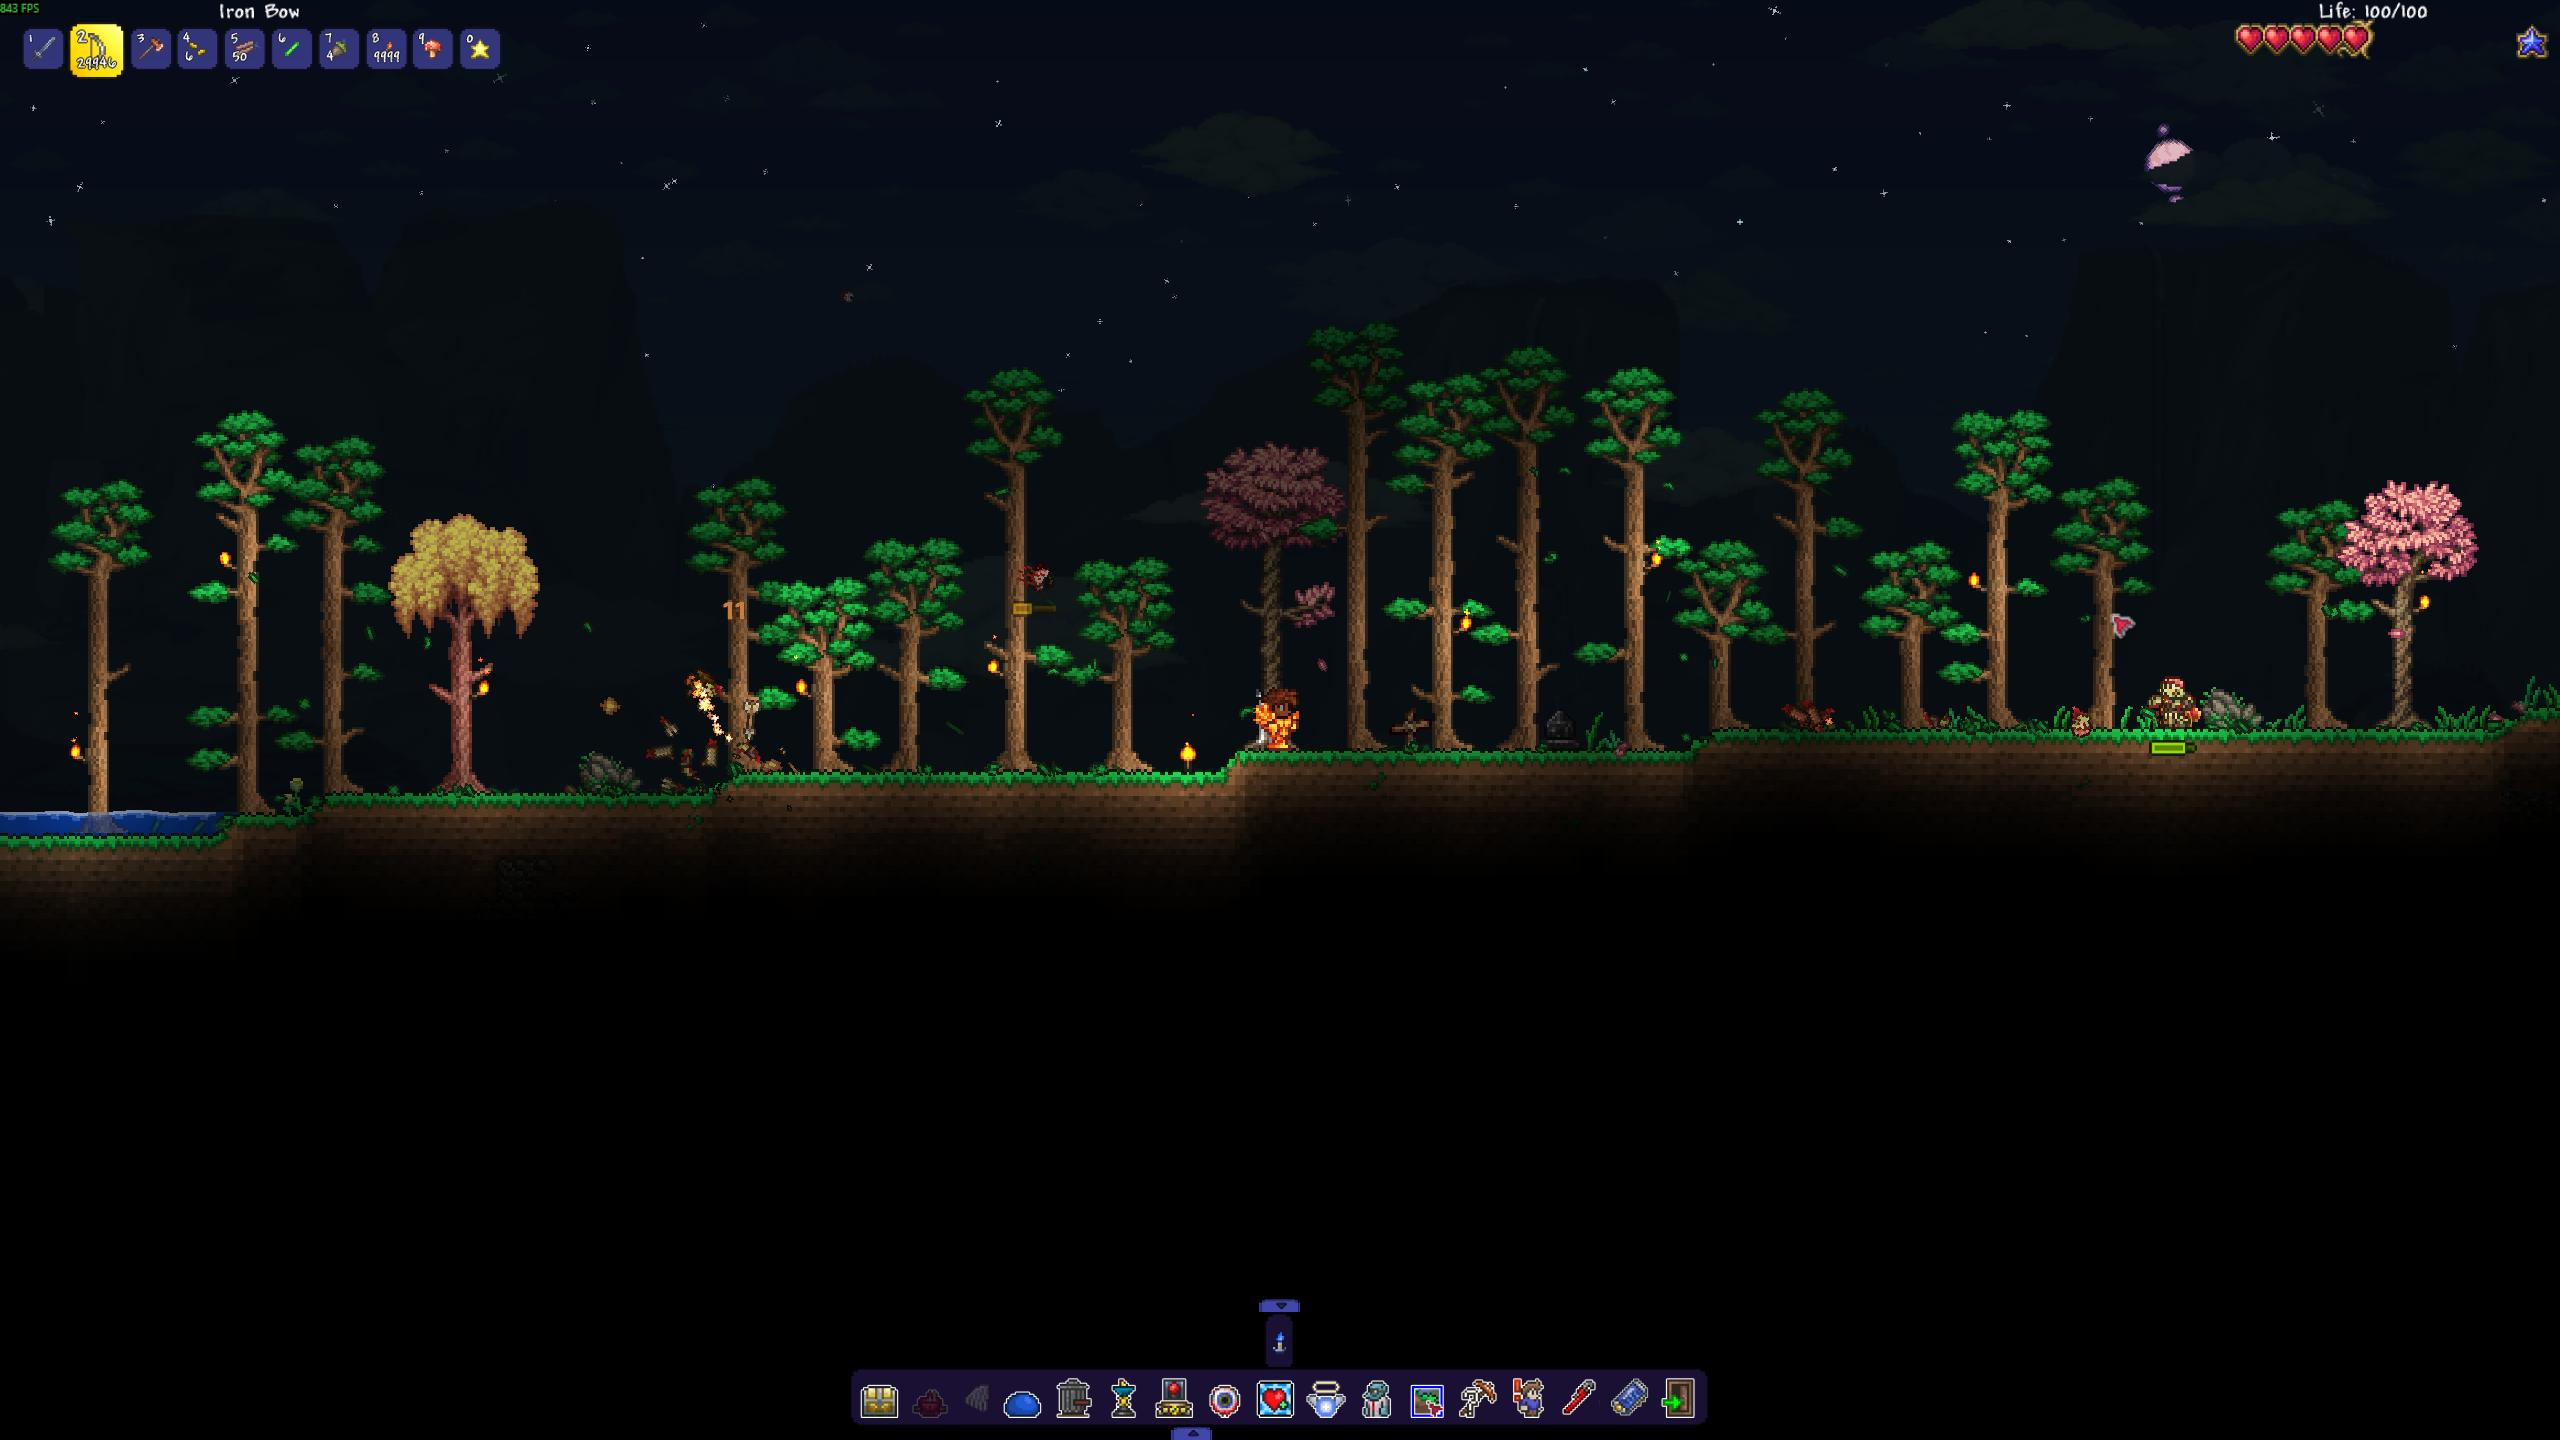Demon Eye: (1011, 559, 1062, 598)
Zombie: (2145, 673, 2198, 730)
